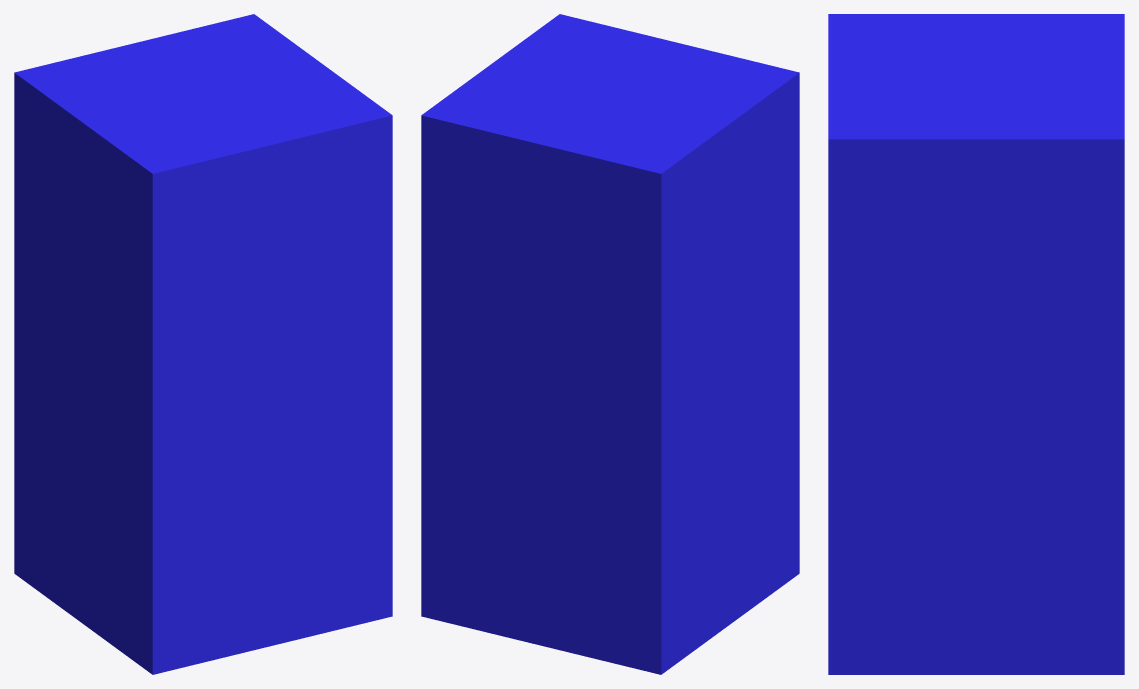
File: RoyalBlueThickEdge.fbx
The picture shows the model from 3 angles, left to right: view 1: azimuth 30°, elevation 25°; view 2: azimuth 150°, elevation 25°; view 3: azimuth 270°, elevation 25°; orthographic projection. The views are drawn at different scales.
Visible parts, largest first — view 1: 4.BODY.green.017; view 2: 4.BODY.green.017; view 3: 4.BODY.green.017.
Part boxes in pixels (x1,y1,x2,y2): 4.BODY.green.017: (14, 14, 392, 674); 4.BODY.green.017: (421, 14, 799, 674); 4.BODY.green.017: (828, 14, 1124, 674).
Size of the model in its own units: 101 by 201 by 101.
